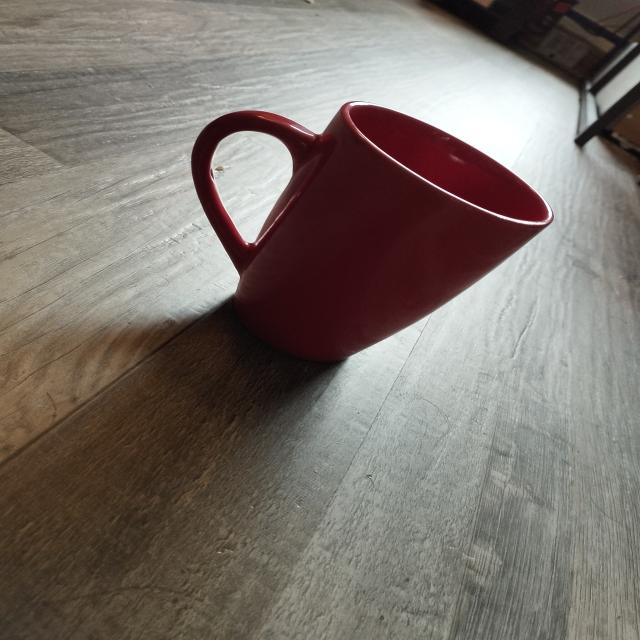Cup: (186, 71, 574, 406)
